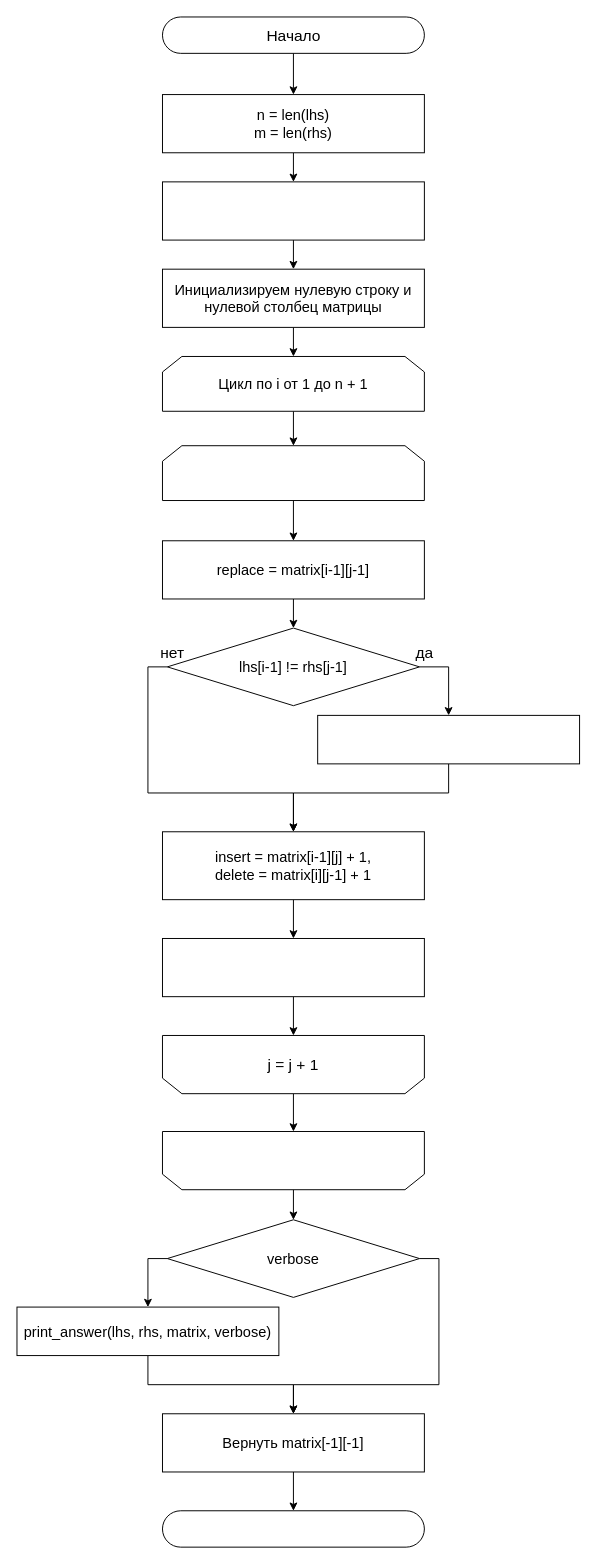
The diagram is 597 pixels wide and 1565 high, and some of its shapes have lost their labels. Each missing label, with the centre of its shape:
i = i + 1: (293,1160)
matrix[i][j] = min(insert, delete, replace): (293,967)
replace += 1: (448,739)
Конец: (293,1528)
Создаем матрицу размером (n+1) на (m+1): (293,210)
Цикл по j от 1 до m + 1: (293,473)
